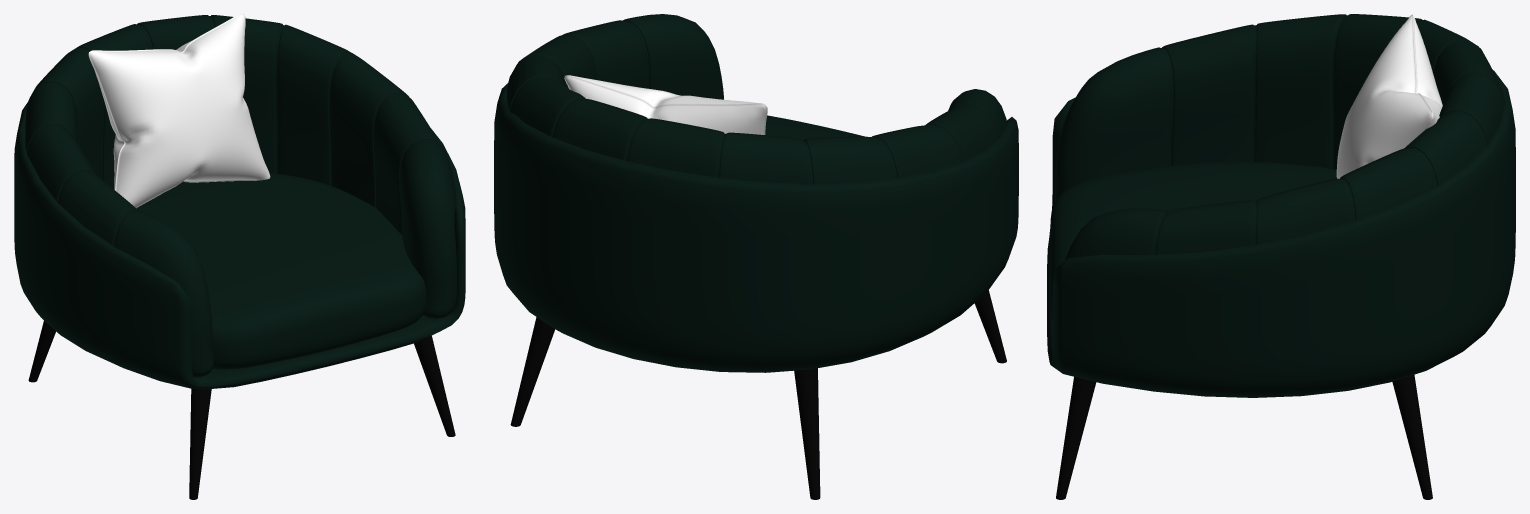
File: sofa_chair.glb
3 views of the same model, side by side, from view 1: azimuth 30°, elevation 25°; view 2: azimuth 150°, elevation 25°; view 3: azimuth 270°, elevation 25° (orthographic). The views are drawn at different scales.
Parts seen in each view (by area): view 1: node_id12, node_id16, node_id8, node_id24, node_id20; view 2: node_id8, node_id12, node_id24, node_id20, node_id16; view 3: node_id8, node_id12, node_id16, node_id24, node_id20.
Boxes of the visible parts, x1,y1,x2,y2 form: node_id12: (25,15,456,377); node_id16: (136,173,426,369); node_id8: (14,102,465,389); node_id24: (88,14,270,208); node_id20: (28,320,455,499); node_id8: (494,83,1018,372); node_id12: (506,14,1007,185); node_id24: (564,75,767,134); node_id20: (510,290,1006,499); node_id16: (765,115,864,140); node_id8: (1047,69,1515,397); node_id12: (1055,14,1504,260); node_id16: (1050,162,1336,322); node_id24: (1336,14,1442,178); node_id20: (1056,375,1432,499).
Bounding box in the file's own units: 0.512 × 0.4196 × 0.4847.
Materials: 5 (5 with a texture image).
